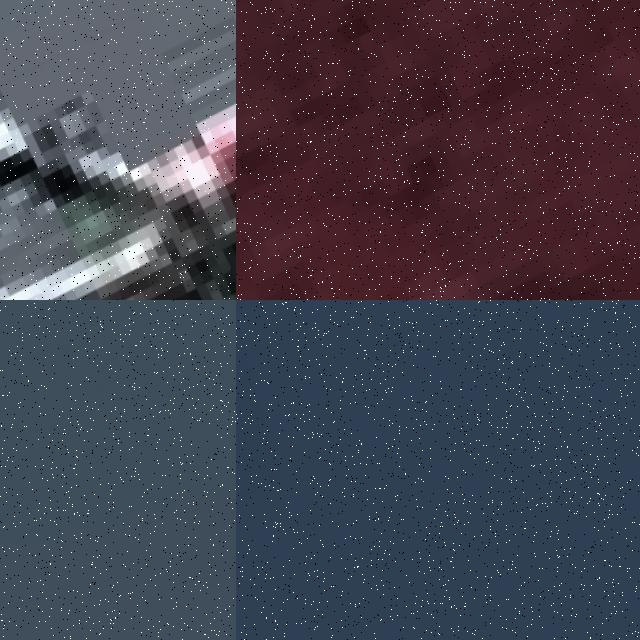drone: (236, 0, 640, 300), (0, 0, 236, 300)
